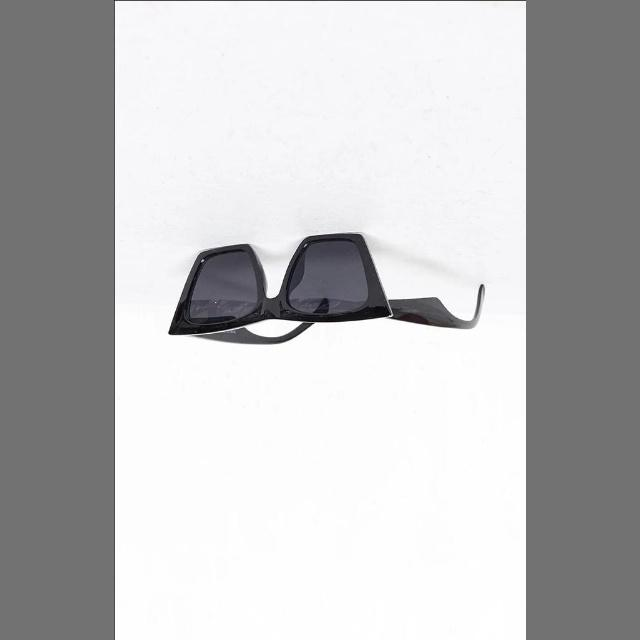Sunglasses: (158, 202, 490, 390)
